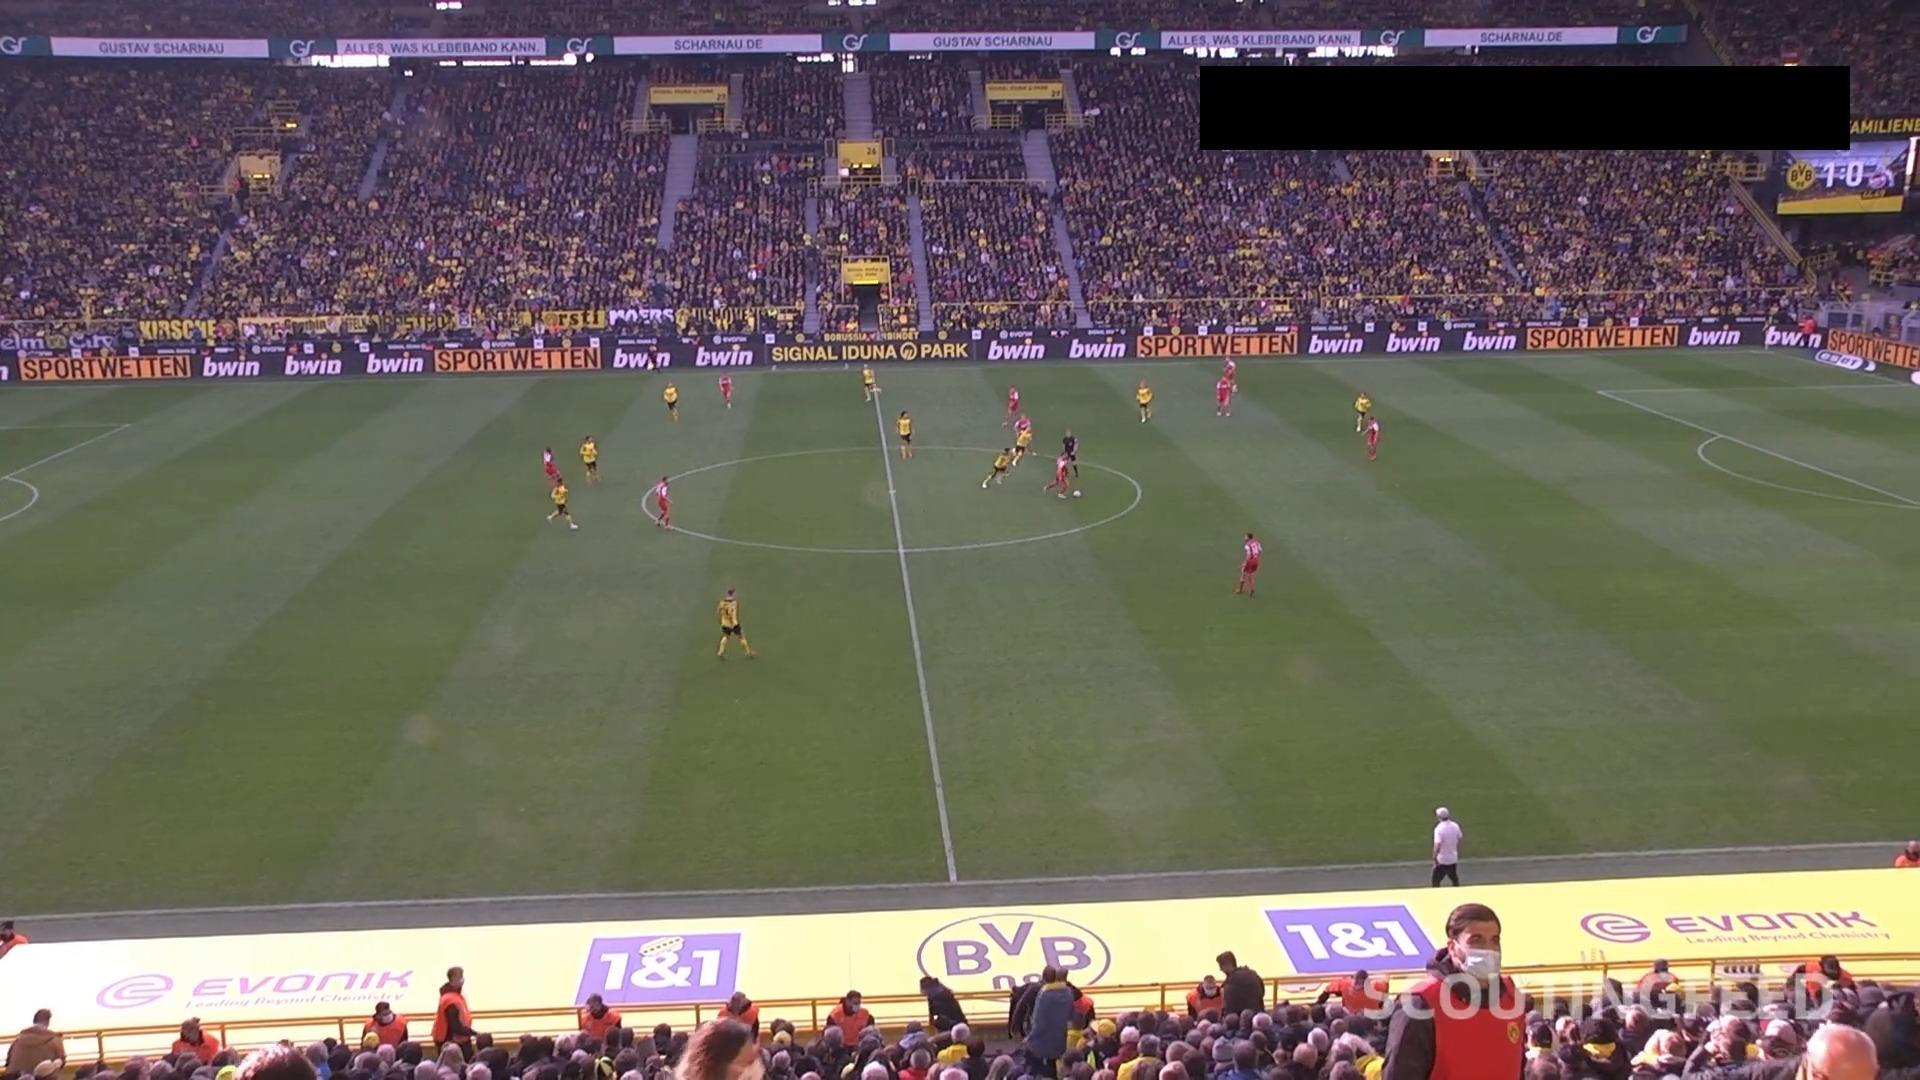ball: (1072, 489, 1083, 498)
